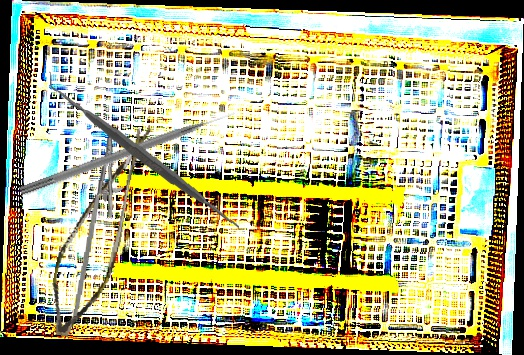Micro Scissor: (42, 114, 152, 345)
Needle Holder: (71, 128, 129, 319)
Pusher: (18, 108, 238, 199)
Spatula Surgical: (49, 61, 240, 251)
